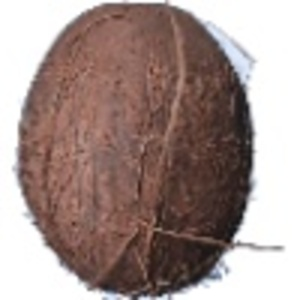coco: (15, 1, 258, 300)
